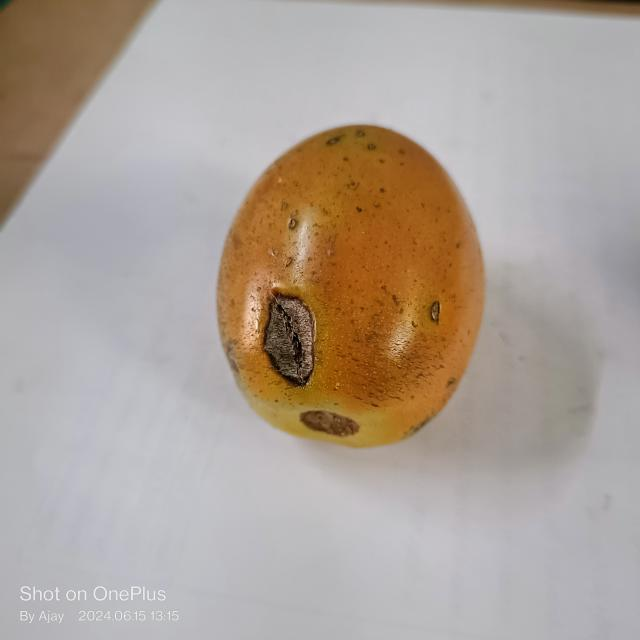Bacterial_Spot: (236, 284, 334, 390)
